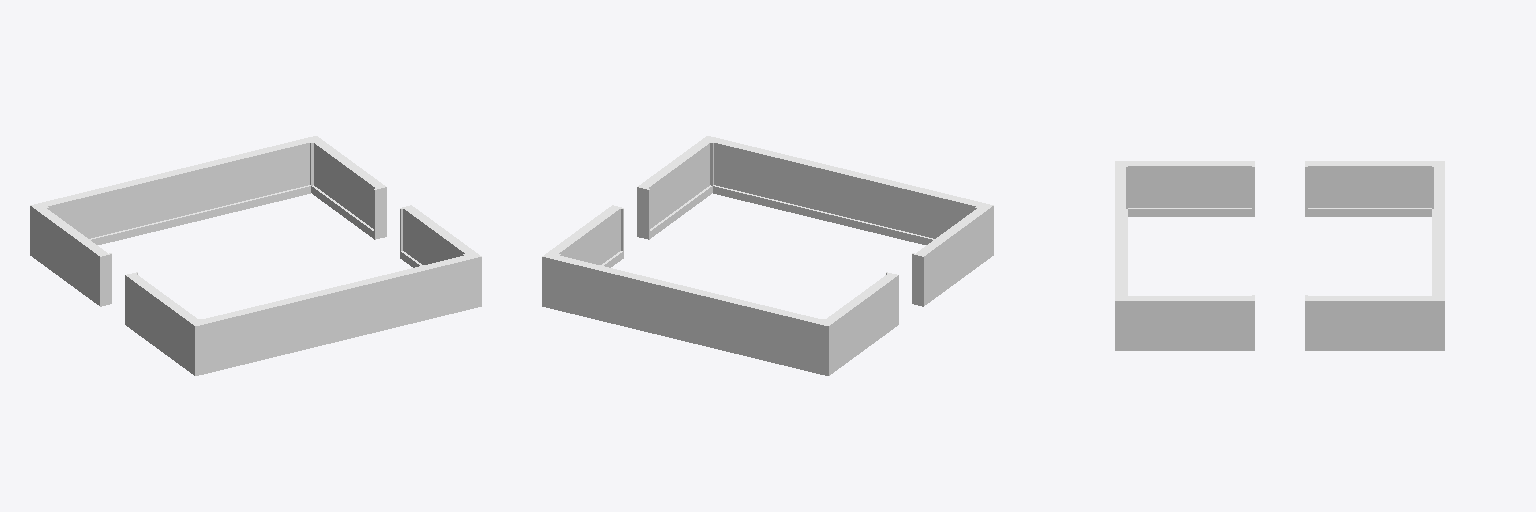
The model's file is 2DoorsOpp.obj.
3 views of the same model, side by side, from view 1: azimuth 30°, elevation 25°; view 2: azimuth 150°, elevation 25°; view 3: azimuth 270°, elevation 25° (orthographic).
Visible parts, largest first — view 1: object 1; view 2: object 1; view 3: object 1.
Boxes of the visible parts, x1=… form: object 1: x1=30, y1=136, x2=481, y2=375; object 1: x1=542, y1=136, x2=993, y2=375; object 1: x1=1115, y1=161, x2=1444, y2=350.
Bounding box in the file's own units: 12 × 2 × 12.